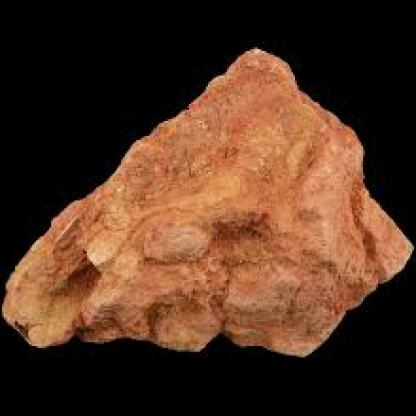Sedimentary_Chalk: (94, 113, 314, 348)
